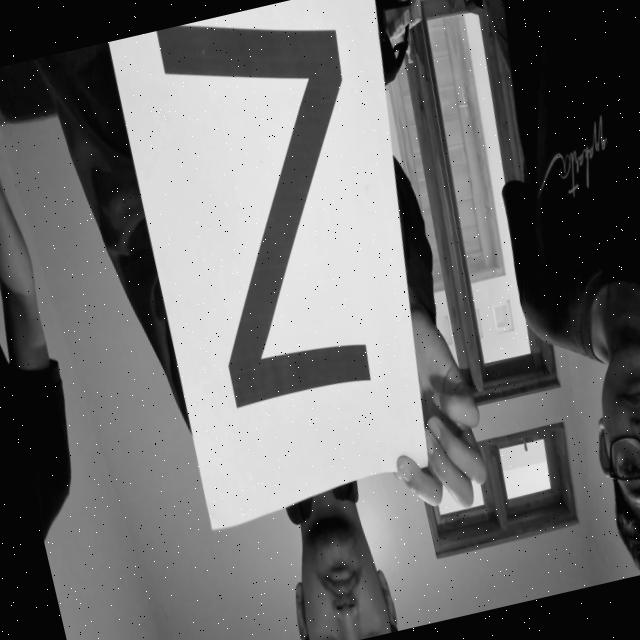z: (134, 0, 423, 434)
